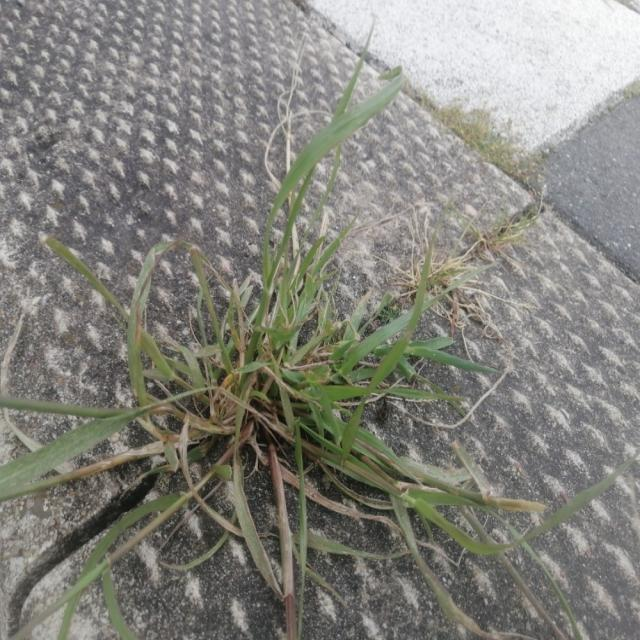Lolium: (1, 17, 626, 637)
